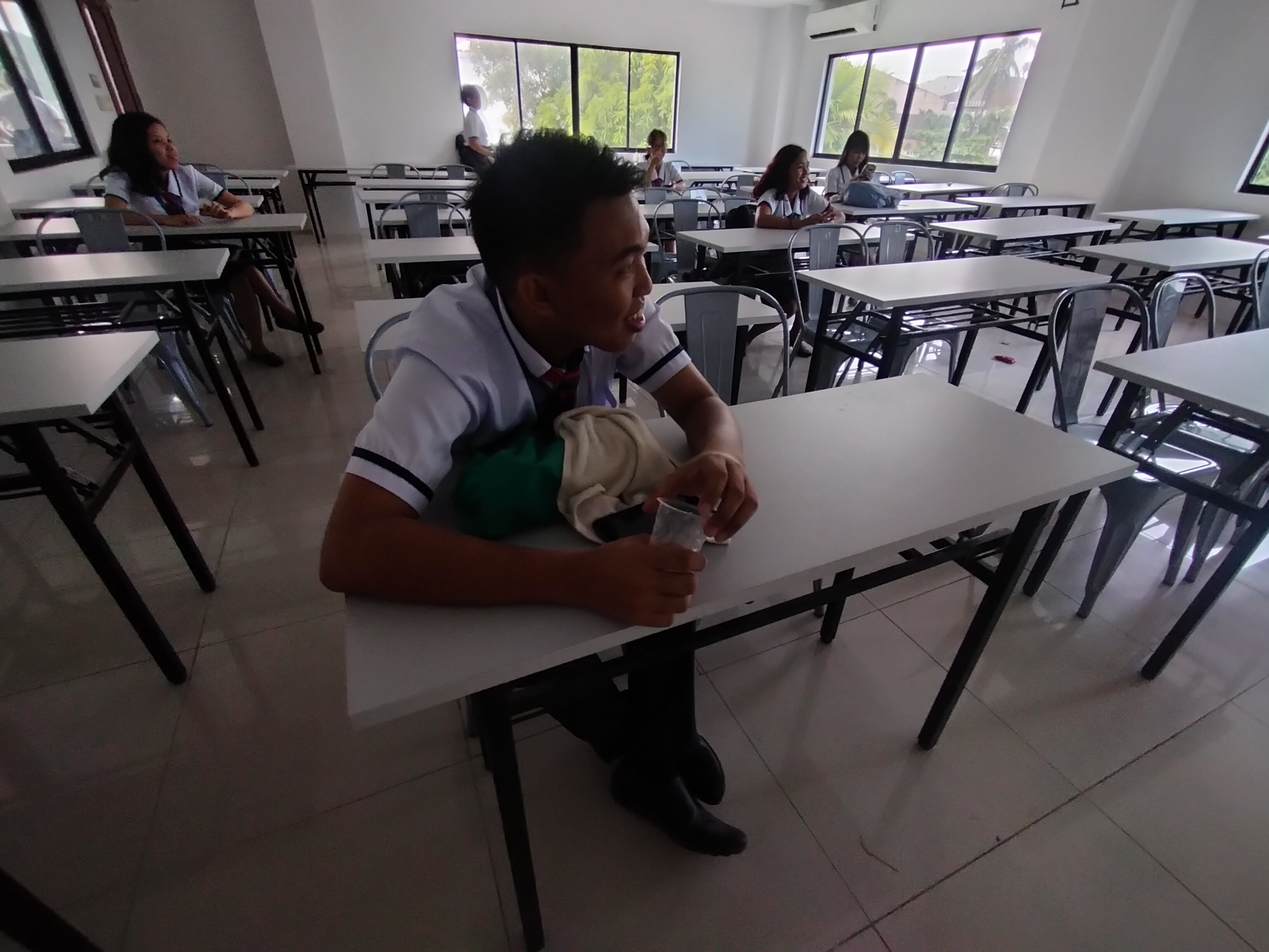with-student: (314, 125, 1135, 952), (2, 103, 316, 260), (672, 139, 918, 267), (805, 128, 978, 222), (582, 127, 733, 205)
